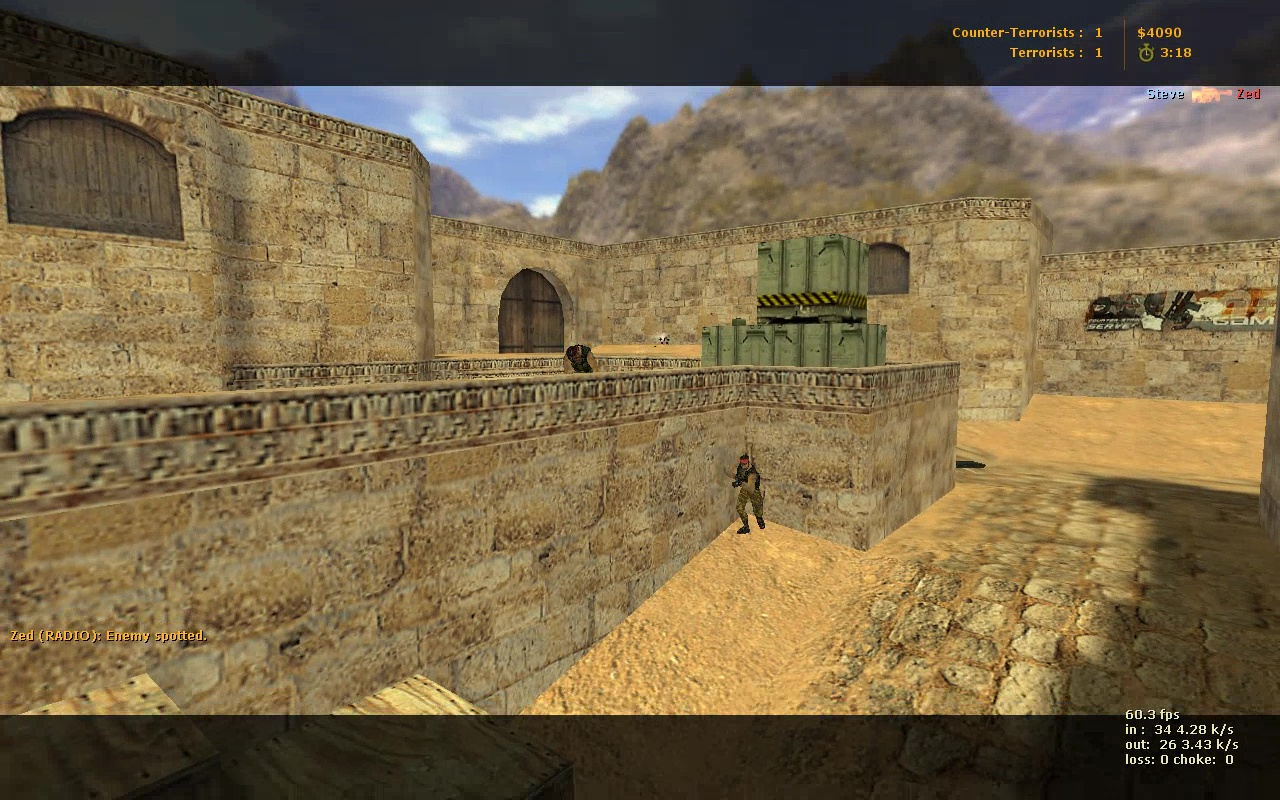terr1: (727, 454, 767, 537)
